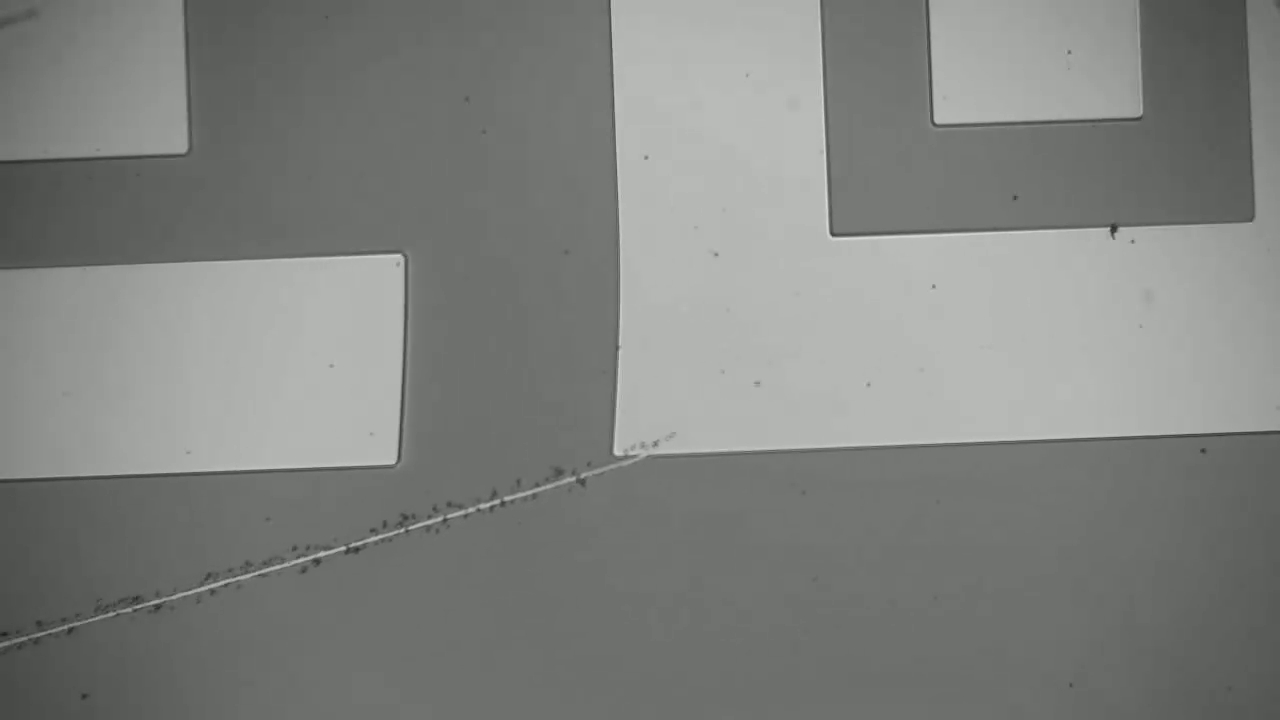scratch: (15, 460, 646, 644)
